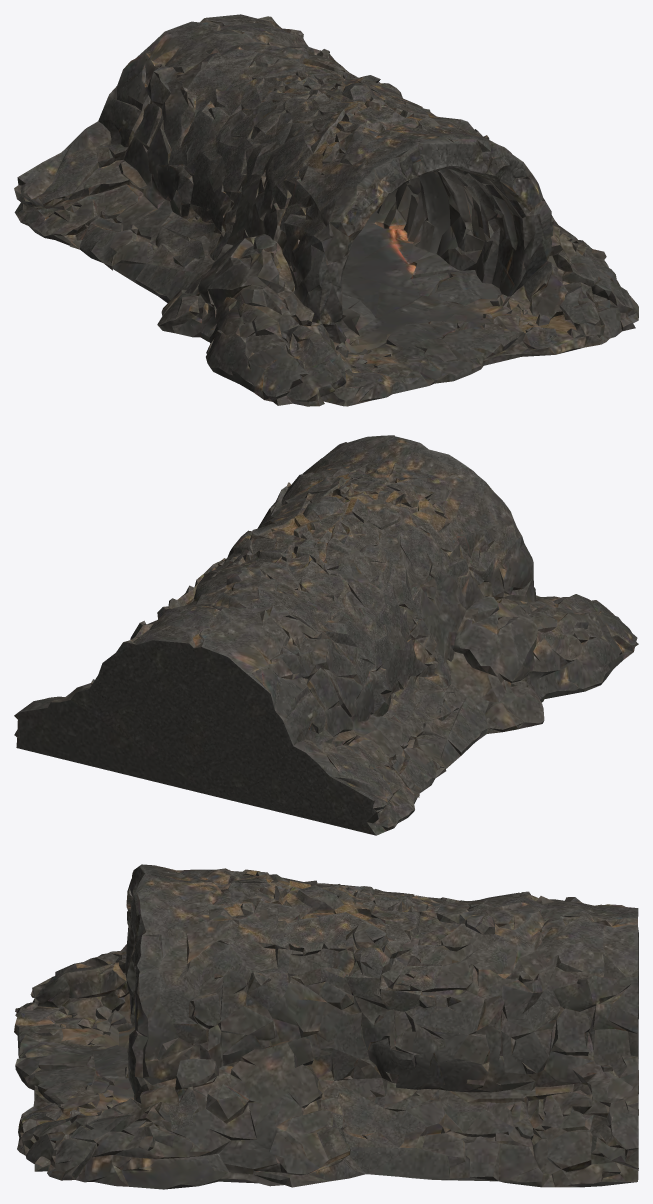
The model's file is charonportal.glb.
3 views of the same model, one above another, from view 1: azimuth 30°, elevation 25°; view 2: azimuth 150°, elevation 25°; view 3: azimuth 270°, elevation 25° (orthographic). The views are drawn at different scales.
Visible parts, largest first — view 1: charonportal-centred; view 2: charonportal-centred; view 3: charonportal-centred.
Part boxes in pixels (x1,y1,x2,y2): charonportal-centred: (14,14,638,406); charonportal-centred: (14,435,638,835); charonportal-centred: (14,864,638,1189).
Bounding box in the file's own units: 12.9 × 5.9 × 16.
1 material, 1 textured.
